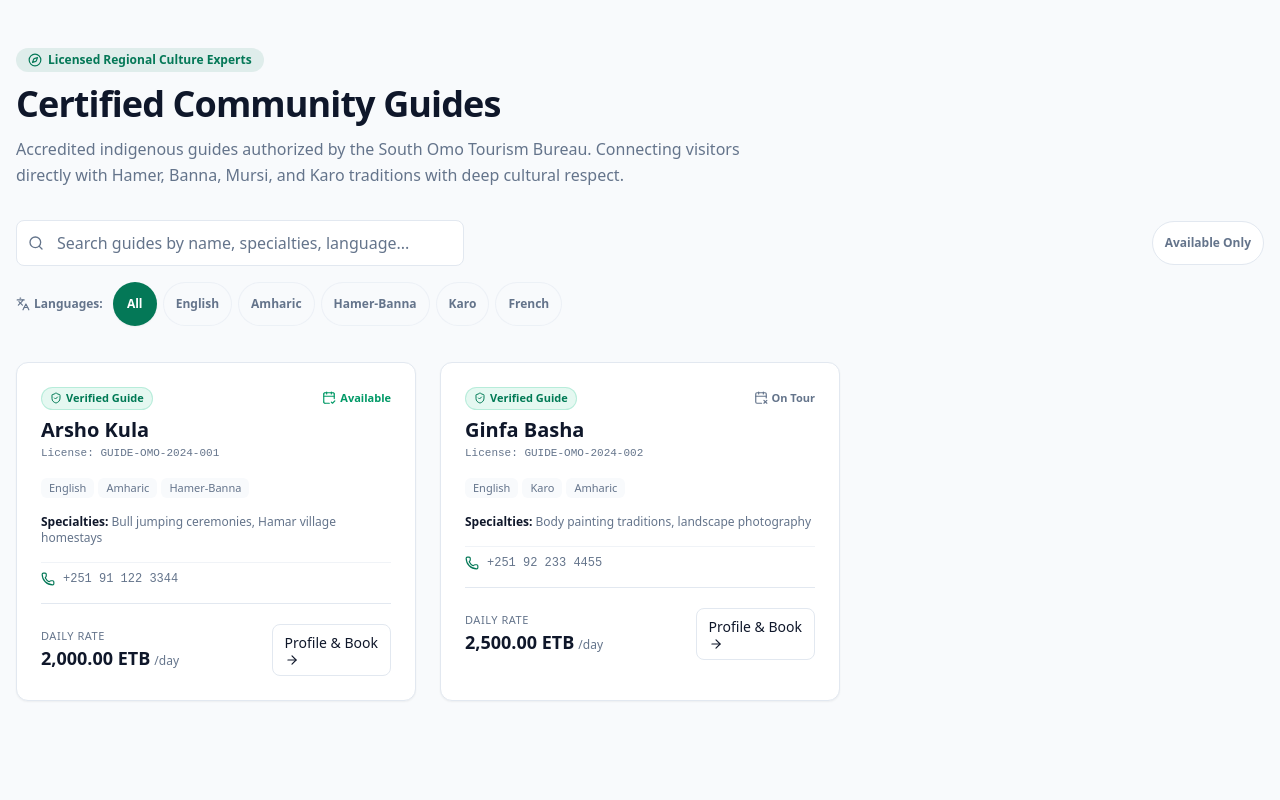
Local guides (F-307) › filters guides by availability toggle
The width and height of the screenshot is (1280, 800).
Expected: the heading "Arsho Kula" is shown, [41,416,149,442]
Expected: the heading "Ginfa Basha" is shown, [465,416,584,442]
Toggle only available
Click the button with test id "toggle-availability" at coordinates (1208, 243), box [1152,221,1264,265]
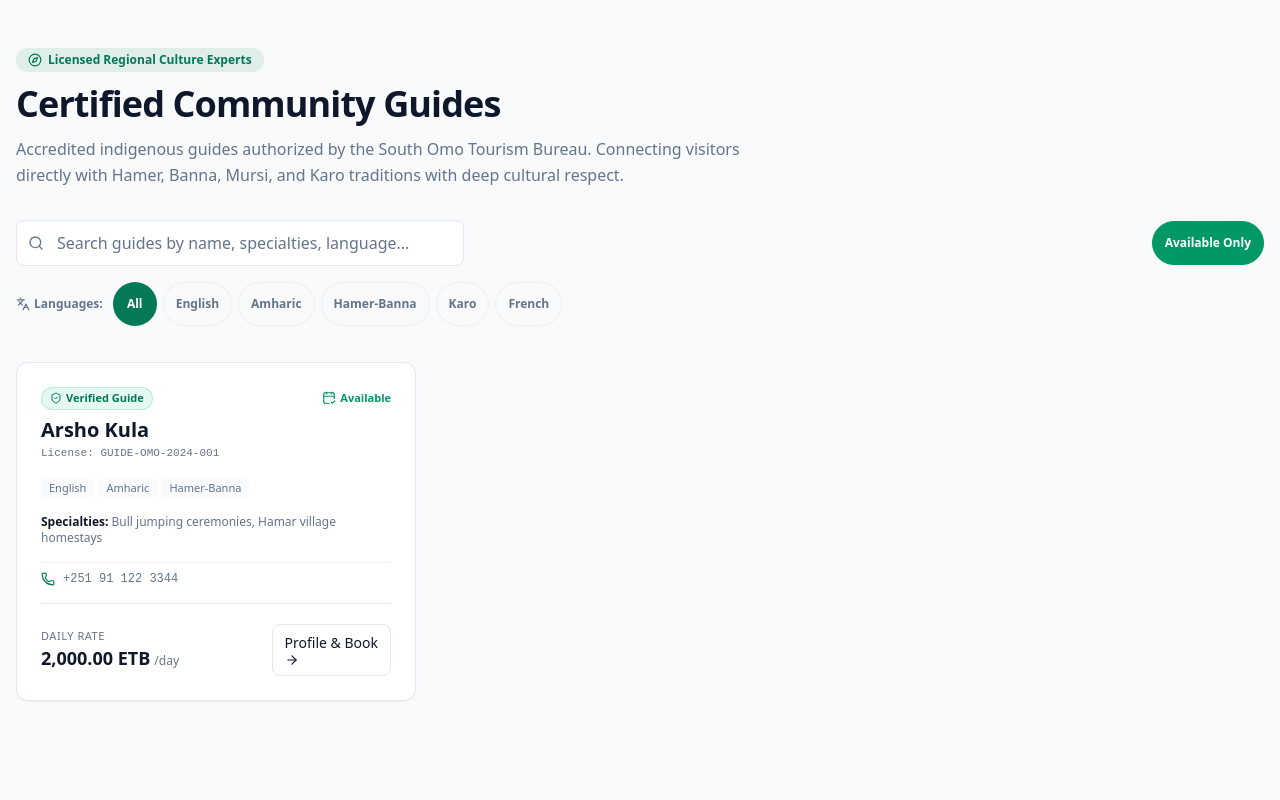
Expected: the heading "Arsho Kula" is shown, [41,416,149,442]
Now the heading "Ginfa Basha" is gone
